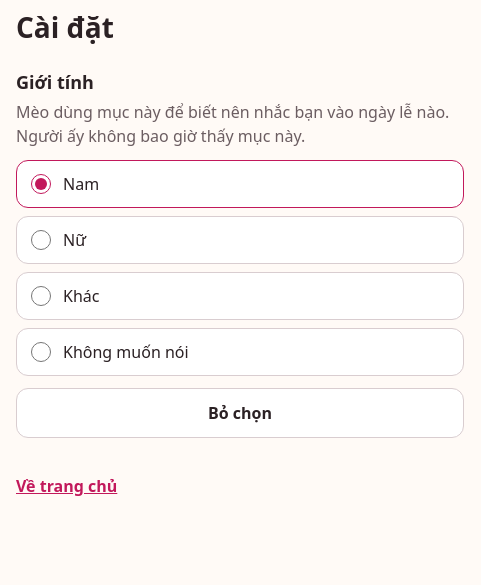
SettingsPage shows an error and keeps the saved choice when saving fails
Click the radio button labelled "Không muốn nói": {"x": 41, "y": 352} [31,342,51,362]
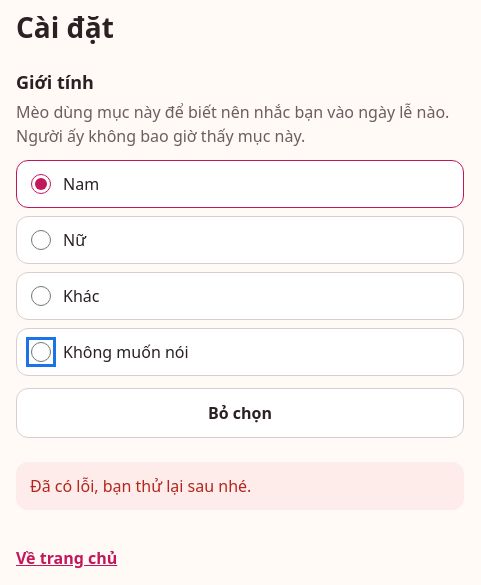
Expected: the radio button labelled "Nam" is checked, [31,174,51,194]
Expected: the message reads "Đã có lỗi, bạn thử lại sau nhé.", [30,475,251,497]
